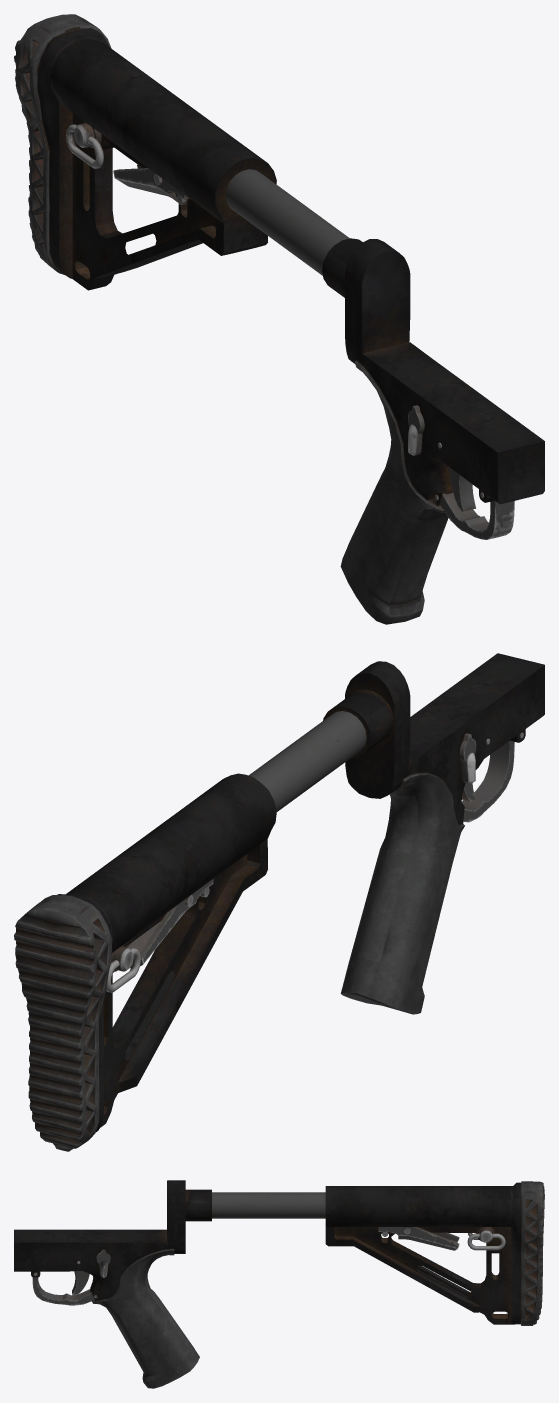
The model's file is Stock_Rifle_1.glb.
The picture shows the model from 3 angles, top to bottom: view 1: azimuth 30°, elevation 25°; view 2: azimuth 150°, elevation 25°; view 3: azimuth 270°, elevation 25°; orthographic projection. The views are drawn at different scales.
Visible parts, largest first — view 1: Stock_Rifle_1; view 2: Stock_Rifle_1; view 3: Stock_Rifle_1.
Boxes of the visible parts, x1,y1,x2,y2 form: Stock_Rifle_1: [14, 14, 544, 624]; Stock_Rifle_1: [14, 653, 544, 1151]; Stock_Rifle_1: [14, 1180, 544, 1388].
Size of the model in its own units: 0.0382 by 0.1619 by 0.385.
Materials: 1 (1 with a texture image).
